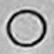no answer: (3, 5, 50, 51)
